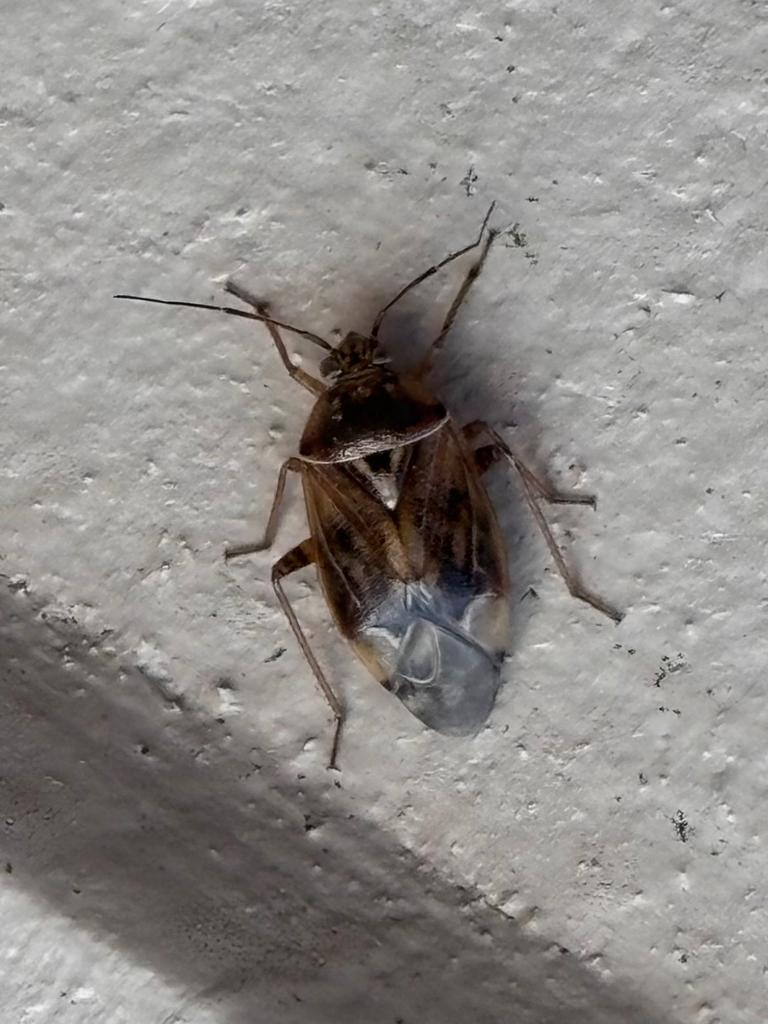plant_bugs: (76, 159, 708, 849)
